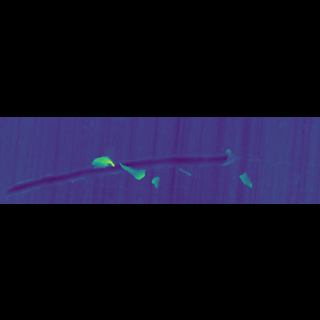Loch: (1, 156, 238, 170), (119, 160, 146, 165), (89, 158, 113, 162), (237, 162, 255, 167), (150, 164, 160, 167)
